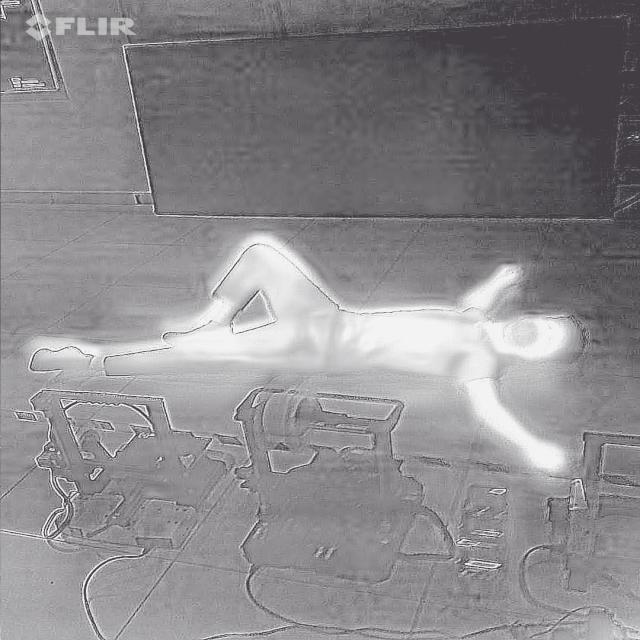Victim: (19, 233, 597, 482)
